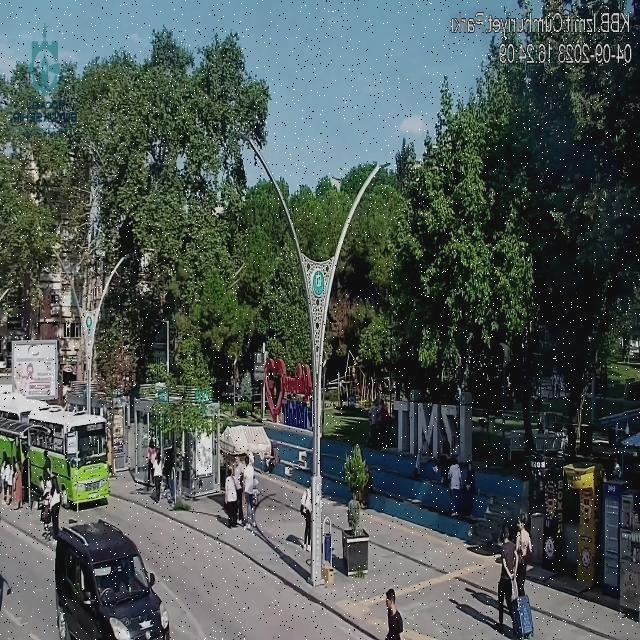Bus: (0, 391, 112, 510)
Car: (55, 519, 173, 640)
